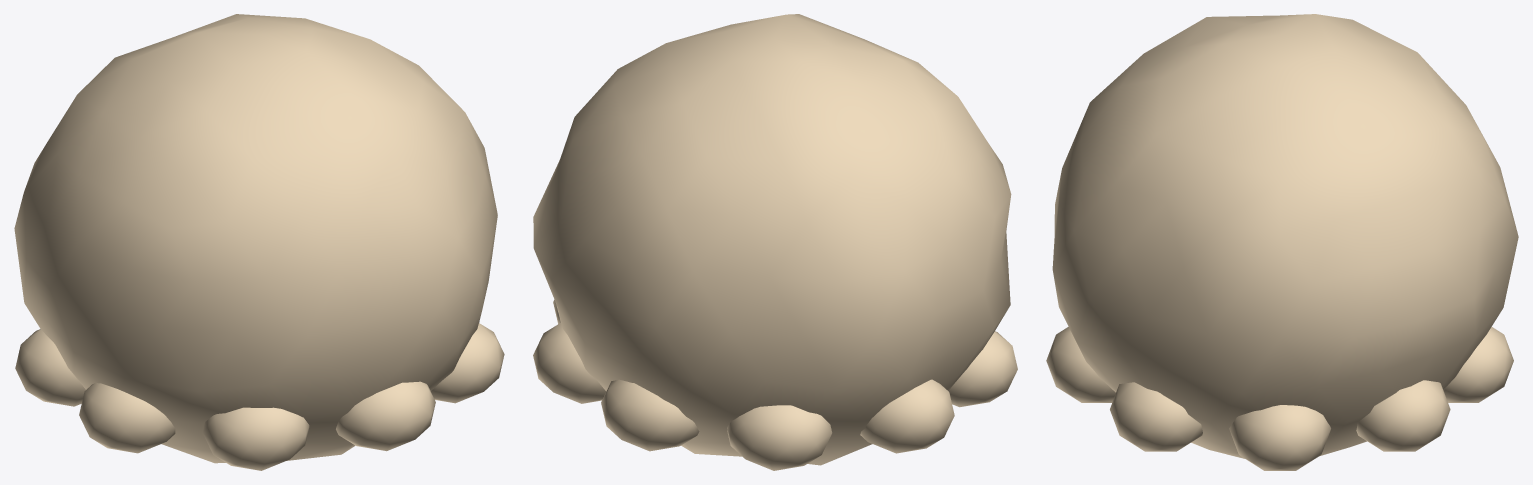
The model's file is Cookie_cream_scoop.fbx.
3 renders of one model, left to right at view 1: azimuth 30°, elevation 25°; view 2: azimuth 150°, elevation 25°; view 3: azimuth 270°, elevation 25°, orthographic.
Visible parts, largest first — view 1: Toon_Cookie_cream_scoop Cookie cream scoop.001, Toon_Cookie_cream_scoop Ruffled scoop edge.015, Toon_Cookie_cream_scoop Ruffled scoop edge.016, Toon_Cookie_cream_scoop Ruffled scoop edge.014, Toon_Cookie_cream_scoop Ruffled scoop edge.013, Toon_Cookie_cream_scoop Ruffled scoop edge.017; view 2: Toon_Cookie_cream_scoop Cookie cream scoop.001, Toon_Cookie_cream_scoop Ruffled scoop edge.012, Toon_Cookie_cream_scoop Ruffled scoop edge.011, Toon_Cookie_cream_scoop Ruffled scoop edge.013, Toon_Cookie_cream_scoop Ruffled scoop edge.010, Toon_Cookie_cream_scoop Ruffled scoop edge.014; view 3: Toon_Cookie_cream_scoop Cookie cream scoop.001, Toon_Cookie_cream_scoop Ruffled scoop edge.009, Toon_Cookie_cream_scoop Ruffled scoop edge.010, Toon_Cookie_cream_scoop Ruffled scoop edge.017, Toon_Cookie_cream_scoop Ruffled scoop edge.011, Toon_Cookie_cream_scoop Ruffled scoop edge.016.
Boxes of the visible parts, x1,y1,x2,y2 form: Toon_Cookie_cream_scoop Cookie cream scoop.001: (14, 14, 497, 463); Toon_Cookie_cream_scoop Ruffled scoop edge.015: (202, 407, 309, 470); Toon_Cookie_cream_scoop Ruffled scoop edge.016: (336, 381, 435, 451); Toon_Cookie_cream_scoop Ruffled scoop edge.014: (79, 382, 175, 453); Toon_Cookie_cream_scoop Ruffled scoop edge.013: (15, 329, 85, 406); Toon_Cookie_cream_scoop Ruffled scoop edge.017: (431, 323, 504, 403); Toon_Cookie_cream_scoop Cookie cream scoop.001: (533, 14, 1011, 465); Toon_Cookie_cream_scoop Ruffled scoop edge.012: (727, 405, 832, 470); Toon_Cookie_cream_scoop Ruffled scoop edge.011: (601, 379, 699, 451); Toon_Cookie_cream_scoop Ruffled scoop edge.013: (860, 379, 954, 453); Toon_Cookie_cream_scoop Ruffled scoop edge.010: (533, 323, 606, 403); Toon_Cookie_cream_scoop Ruffled scoop edge.014: (948, 331, 1017, 407); Toon_Cookie_cream_scoop Cookie cream scoop.001: (1052, 14, 1518, 458); Toon_Cookie_cream_scoop Ruffled scoop edge.009: (1229, 405, 1330, 470); Toon_Cookie_cream_scoop Ruffled scoop edge.010: (1356, 380, 1450, 451); Toon_Cookie_cream_scoop Ruffled scoop edge.017: (1110, 382, 1202, 451); Toon_Cookie_cream_scoop Ruffled scoop edge.011: (1443, 327, 1513, 402); Toon_Cookie_cream_scoop Ruffled scoop edge.016: (1046, 327, 1115, 402).
Size of the model in its own units: 10.56 by 9.6 by 10.18.
